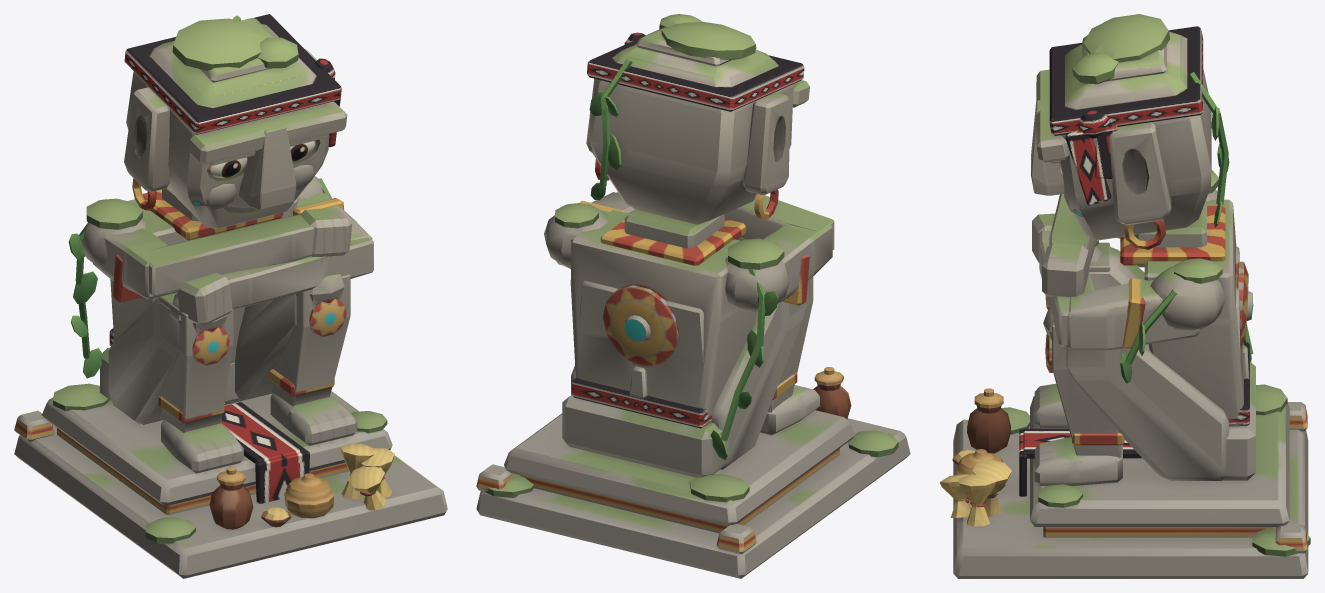
The model's file is bulul_seated.glb.
The picture shows the model from 3 angles, left to right: view 1: azimuth 30°, elevation 25°; view 2: azimuth 150°, elevation 25°; view 3: azimuth 270°, elevation 25°; orthographic projection. The views are drawn at different scales.
Visible parts, largest first — view 1: bulul_seated; view 2: bulul_seated; view 3: bulul_seated.
Part boxes in pixels (left/top/right/bottom): bulul_seated: left=14, top=14, right=447, bottom=578; bulul_seated: left=476, top=14, right=910, bottom=578; bulul_seated: left=939, top=14, right=1310, bottom=578.
Bounding box in the file's own units: 5.88 × 9.2 × 6.45.
Materials: 1 (1 with a texture image).
